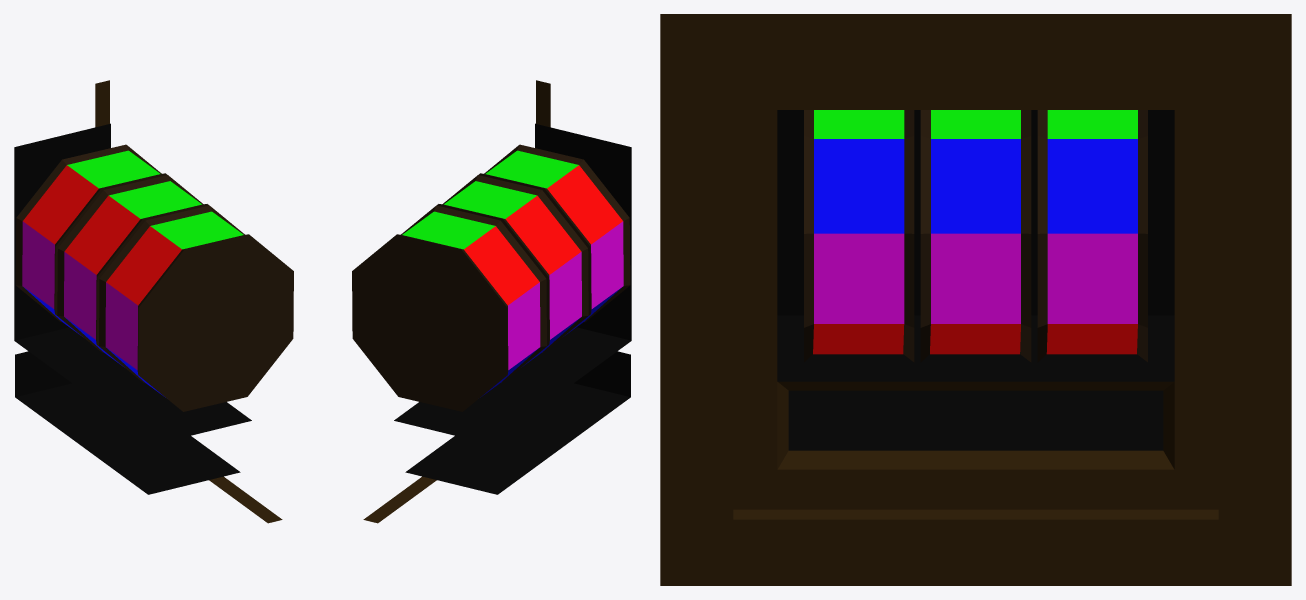
File: slotmachine.glb
3 renders of one model, left to right at view 1: azimuth 30°, elevation 25°; view 2: azimuth 150°, elevation 25°; view 3: azimuth 270°, elevation 25°, orthographic. The views are drawn at different scales.
Parts seen in each view (by area): view 1: Spinner0, Machine, Spinner1, Spinner2; view 2: Spinner2, Machine, Spinner1, Spinner0; view 3: Machine, Spinner1, Spinner0, Spinner2.
Boxes of the visible parts, x1,y1,x2,y2 form: Spinner0: [99, 205, 293, 411]; Machine: [14, 80, 282, 523]; Spinner1: [57, 175, 208, 380]; Spinner2: [15, 144, 167, 350]; Spinner2: [352, 205, 546, 411]; Machine: [363, 80, 631, 523]; Spinner1: [437, 175, 588, 380]; Spinner0: [478, 144, 630, 350]; Machine: [660, 14, 1291, 585]; Spinner1: [920, 110, 1031, 362]; Spinner0: [804, 110, 914, 362]; Spinner2: [1037, 110, 1147, 362].
Bounding box in the file's own units: 1.65 × 4.13 × 4.13.
